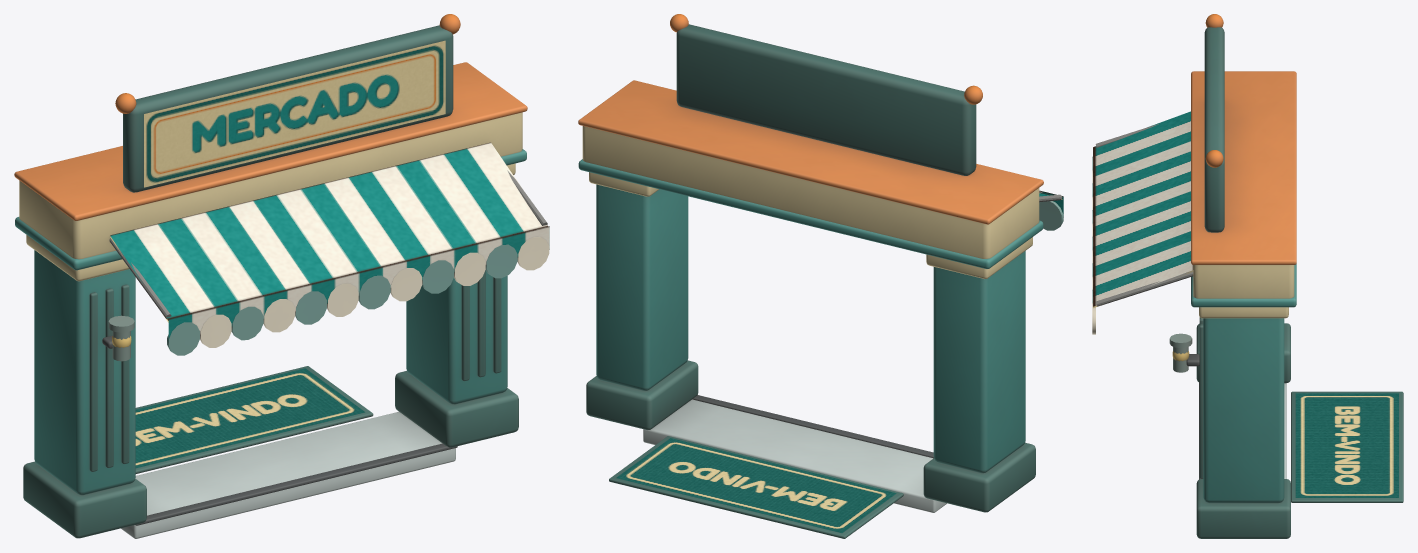
File: MarketPortal.fbx
The picture shows the model from 3 angles, left to right: view 1: azimuth 30°, elevation 25°; view 2: azimuth 150°, elevation 25°; view 3: azimuth 270°, elevation 25°; orthographic projection. The views are drawn at different scales.
Visible parts, largest first — view 1: MarketPortal; view 2: MarketPortal; view 3: MarketPortal.
Boxes of the visible parts, box(x1,y1,x2,y2) form: MarketPortal: box(14, 14, 549, 538); MarketPortal: box(578, 14, 1063, 538); MarketPortal: box(1092, 14, 1403, 538).
Bounding box in the file's own units: 400 × 372 × 277.
